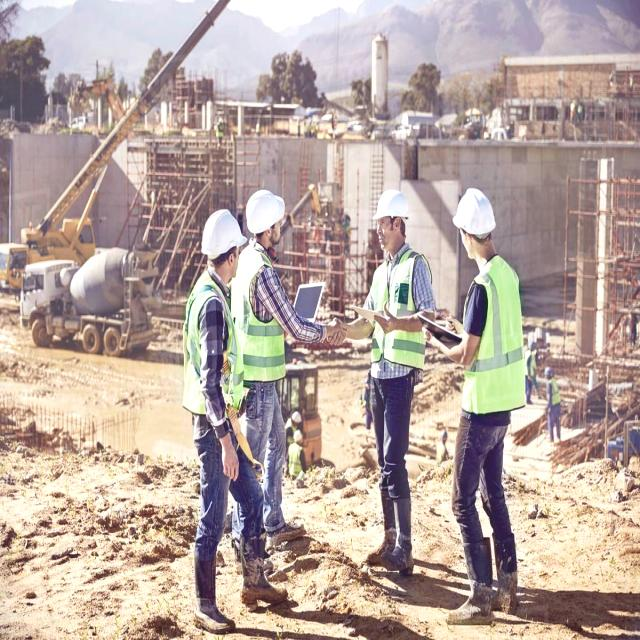face_nomask: (375, 218, 398, 256), (223, 245, 244, 282), (267, 218, 290, 251)
hand_noglove: (218, 437, 243, 485), (319, 315, 347, 354), (376, 304, 394, 336)
head_helmet: (451, 186, 504, 238), (197, 208, 248, 256), (242, 189, 292, 236), (370, 190, 410, 223)
person: (451, 192, 518, 622), (186, 213, 241, 618), (370, 191, 427, 576), (240, 192, 288, 536)
shoes: (192, 569, 240, 639), (235, 561, 293, 616), (444, 580, 497, 627), (379, 536, 420, 584), (266, 510, 308, 554)
vest: (455, 256, 528, 407), (180, 277, 239, 418), (367, 252, 432, 376), (237, 246, 288, 378)
